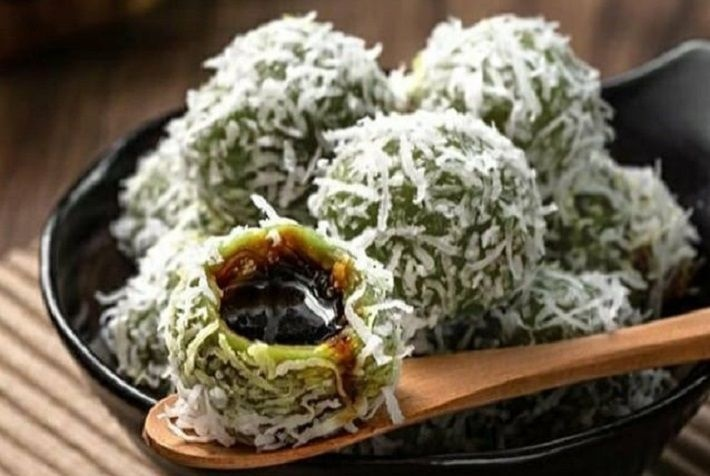klepon: (121, 216, 407, 442)
